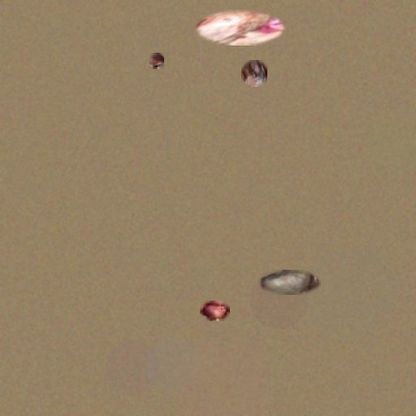damaged: (258, 270, 321, 295)
healthy: (200, 301, 230, 321)
rotten: (193, 10, 286, 46), (241, 60, 267, 87)
sprouted: (150, 53, 164, 69)
